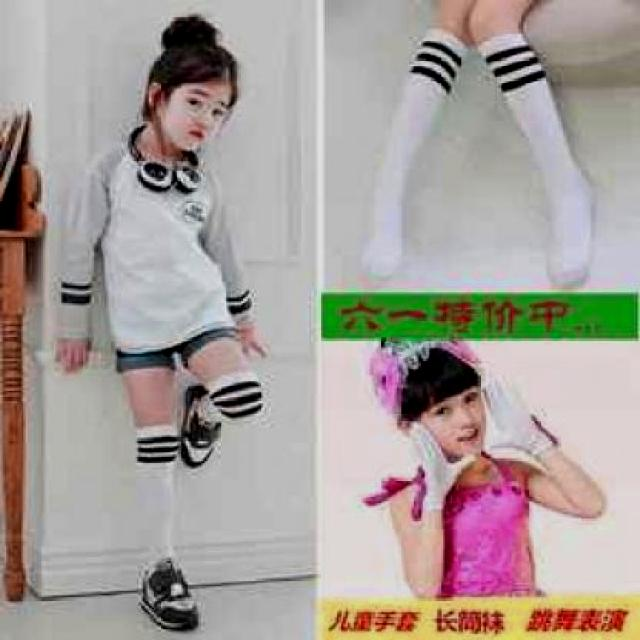face_nomask: (156, 81, 227, 157)
hand_glove: (410, 418, 476, 508), (474, 368, 540, 457)
hand_noglove: (54, 335, 91, 374), (235, 324, 272, 358)
head_nohelmet: (375, 340, 474, 408), (155, 25, 237, 89)
person: (62, 17, 298, 640), (363, 335, 595, 640)
shoes: (126, 555, 205, 631), (169, 382, 229, 472)
